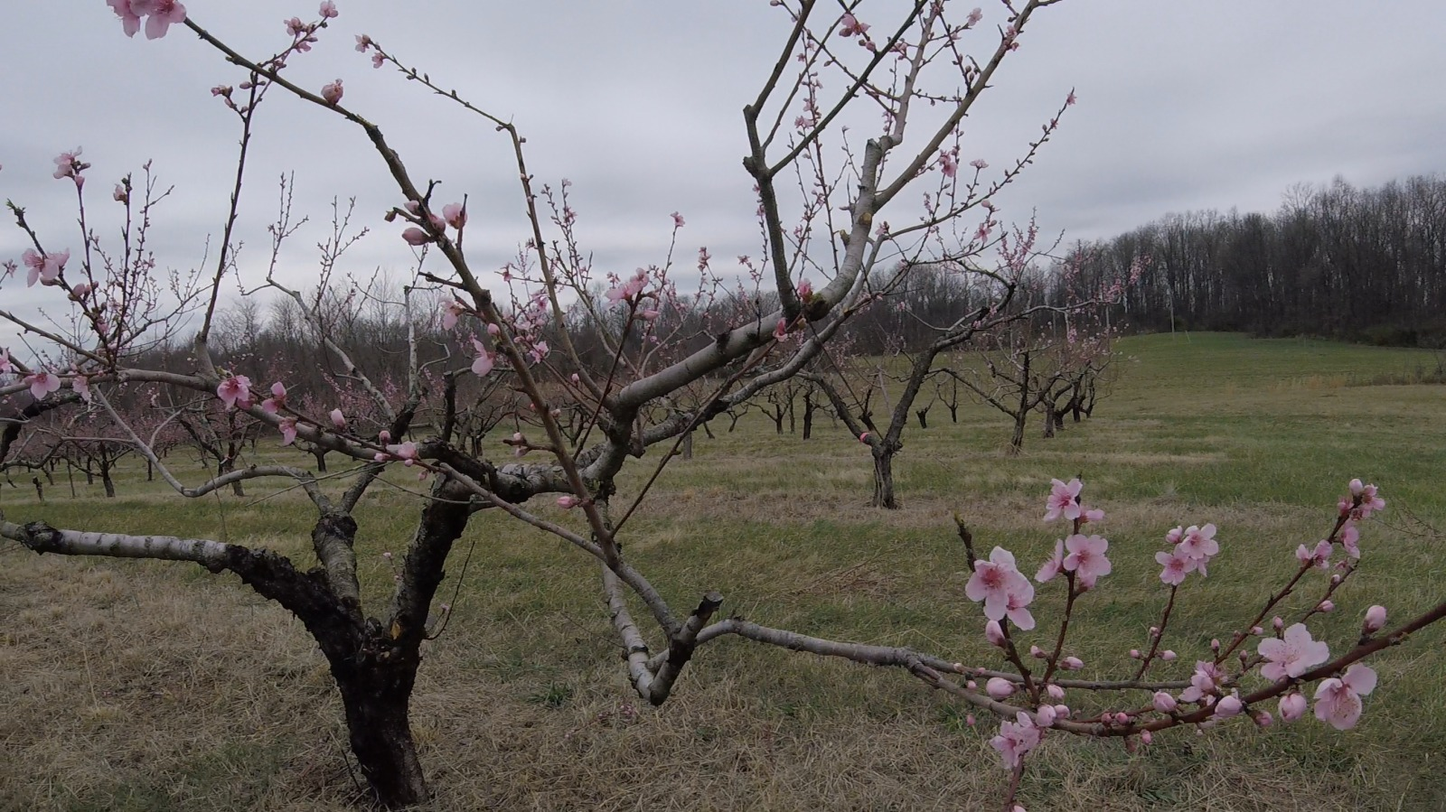flower: (966, 546, 1036, 636), (0, 347, 95, 406), (990, 704, 1070, 772), (1254, 623, 1330, 688), (1313, 663, 1378, 732), (1035, 535, 1113, 588), (1155, 524, 1220, 586), (601, 266, 670, 322), (107, 0, 186, 41), (1045, 479, 1104, 522), (1178, 661, 1229, 706), (838, 9, 878, 58), (22, 248, 70, 288), (218, 367, 254, 413), (1349, 479, 1386, 518), (436, 291, 466, 339), (469, 331, 497, 377), (355, 34, 390, 69), (970, 148, 999, 183), (1215, 688, 1246, 719), (1279, 692, 1310, 723), (987, 677, 1025, 700), (761, 312, 790, 342), (937, 150, 959, 189), (53, 151, 82, 180), (402, 228, 430, 257), (433, 203, 464, 229), (395, 434, 419, 467), (1296, 540, 1333, 560), (285, 17, 317, 38), (1344, 517, 1360, 559), (525, 335, 549, 361), (322, 79, 343, 107), (279, 417, 298, 445), (1154, 689, 1178, 711), (1366, 606, 1387, 629), (972, 223, 992, 245), (795, 275, 814, 296), (319, 0, 339, 19), (329, 408, 348, 427), (532, 296, 549, 317), (1061, 657, 1084, 671), (965, 8, 982, 26), (485, 323, 502, 341), (1338, 496, 1355, 513), (70, 285, 93, 297), (114, 184, 127, 205), (260, 398, 278, 413), (271, 382, 287, 398), (1047, 685, 1065, 699), (73, 172, 86, 191), (671, 212, 685, 229), (296, 41, 312, 53), (981, 199, 995, 212), (608, 273, 621, 285), (79, 146, 81, 151)
